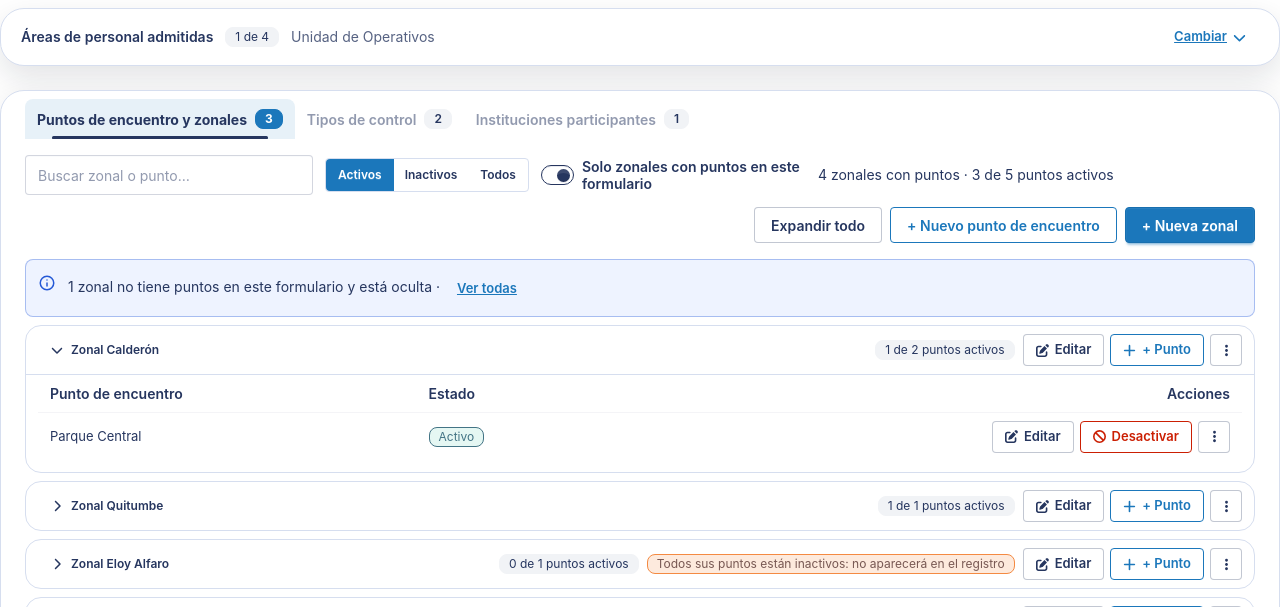
Test: acordeón de zonales › el aviso ámbar solo sale cuando TODOS los puntos de la zonal están inactivos
The image size is (1280, 607).
Check: the text "Zonal Calderón" is shown, box [71, 341, 159, 359]
Note: Con todas a la vista, Tumbaco (0 puntos) incluida.
Click the button "Ver todas" at (487, 288), box [444, 272, 530, 304]
(page scrolled)
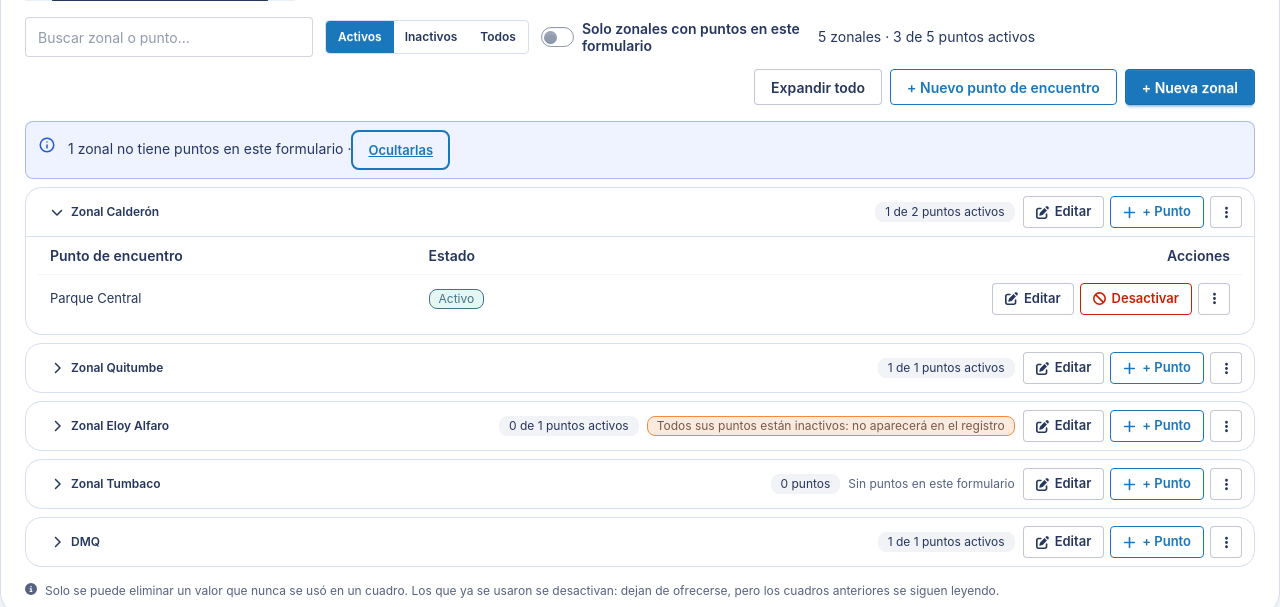
Check: the text "Zonal Tumbaco" is shown, box [71, 475, 160, 493]
Check: the text "Todos sus puntos están inactivos: no aparecerá en el registro" is shown once, box [647, 416, 1015, 436]
